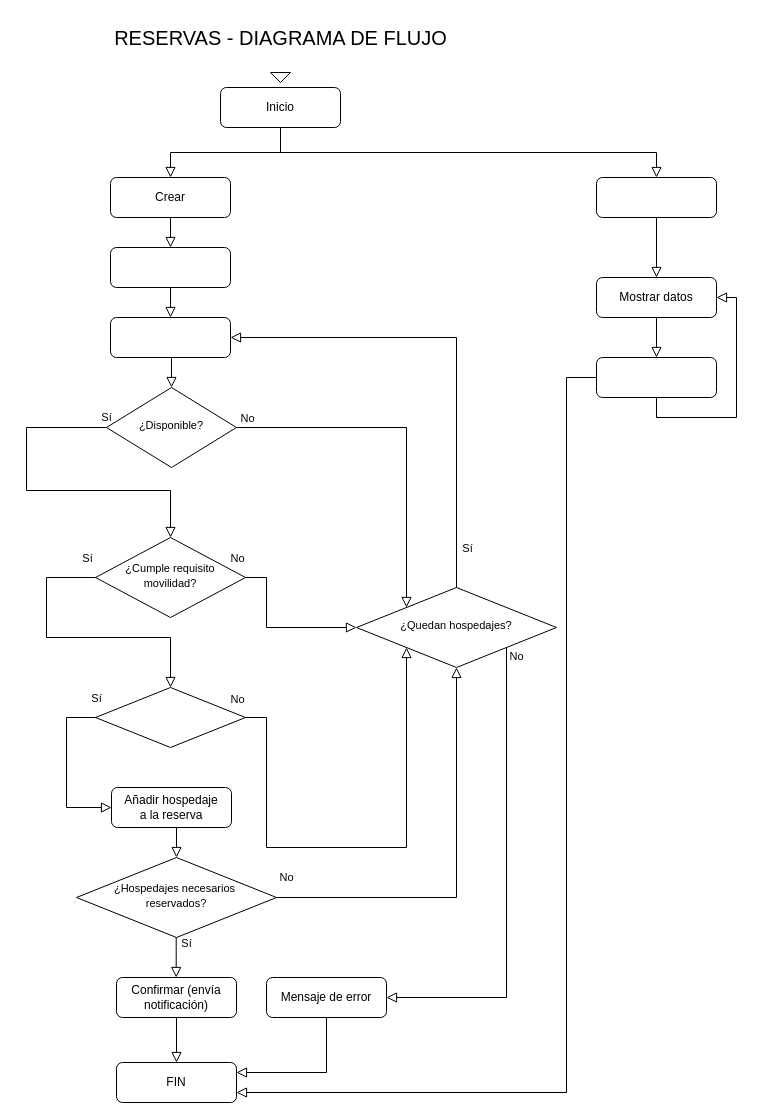
The diagram is 764 pixels wide and 1120 high, and some of its shapes have lost their labels. Here are the shapes that lost their labels. From the top down, the centre of each, then its label:
point (656, 197): Consultar
point (170, 267): Introducir datos
point (170, 337): Buscar hospedajes según pack
point (656, 377): Editar
point (170, 717): ¿Cumple requisito mascota?
